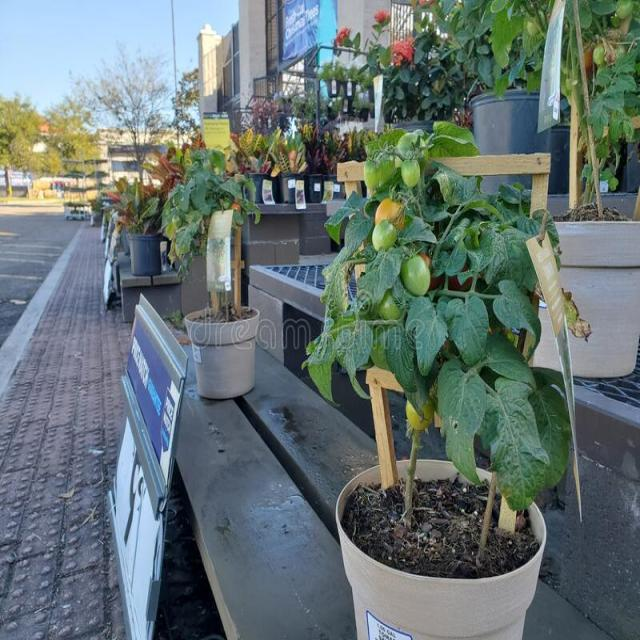plant: (367, 0, 554, 118), (106, 177, 166, 234), (562, 0, 578, 100)
tomato: (306, 122, 570, 529), (162, 151, 259, 274)
